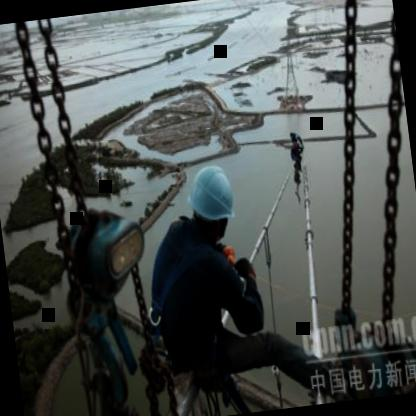helmet: (182, 162, 244, 245)
